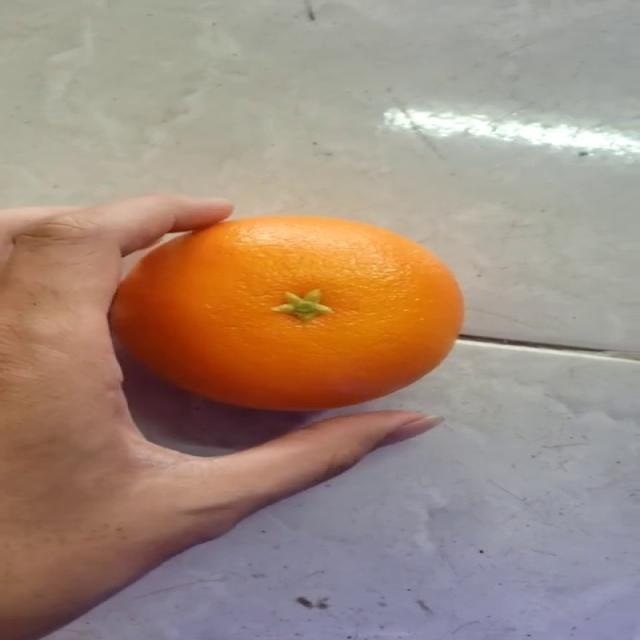Orange: (108, 213, 465, 412)
